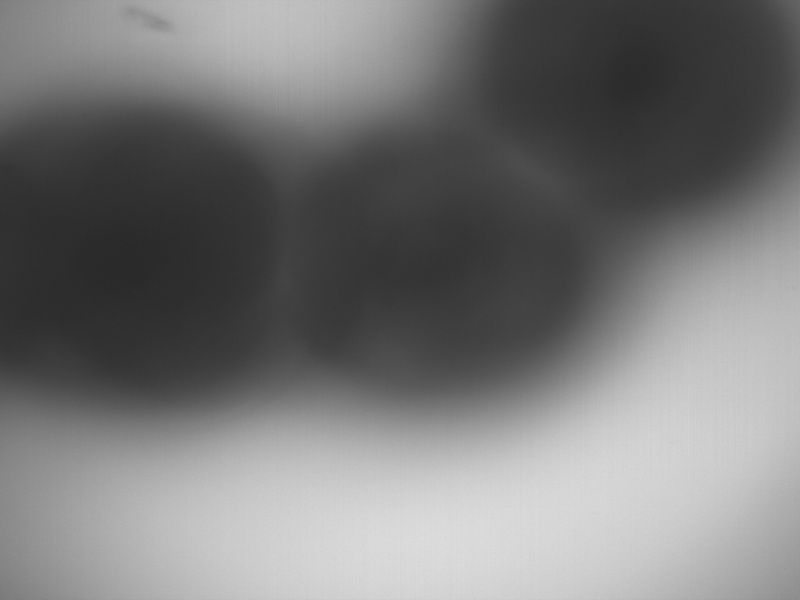bead: (286, 125, 597, 397), (29, 113, 291, 413), (482, 1, 800, 218)
